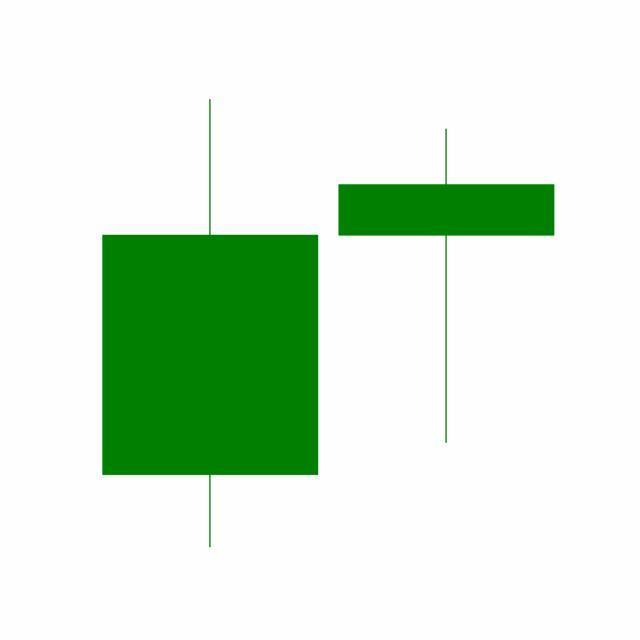Dragonfly Doji: (328, 125, 566, 447)
